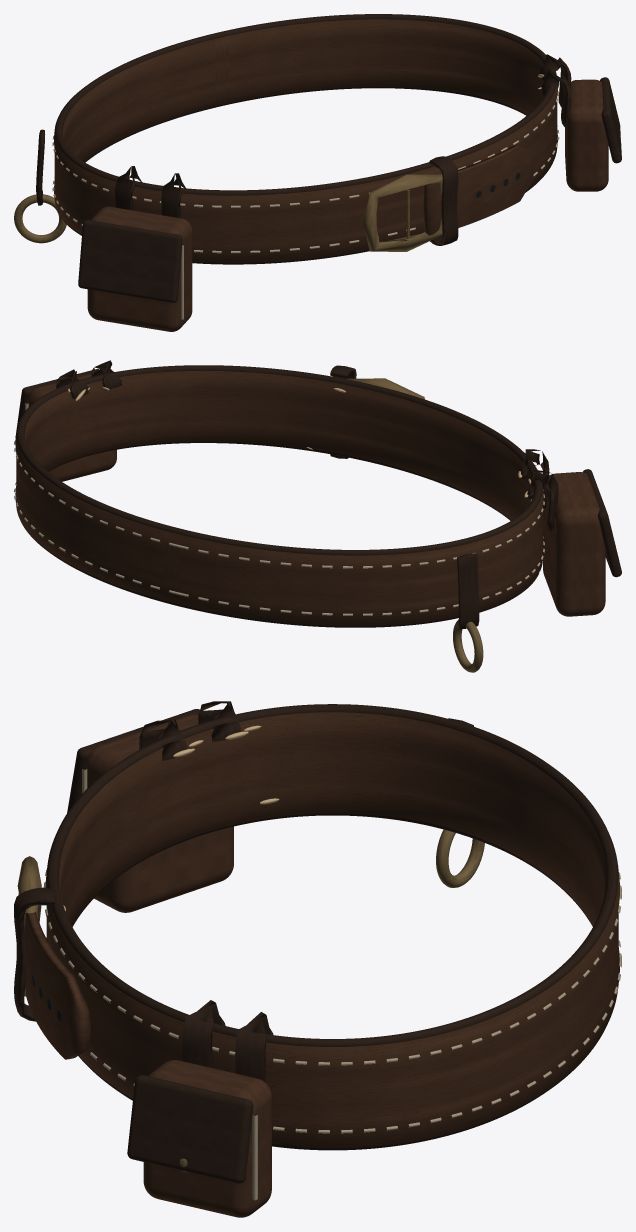
3 renders of one model, top to bottom at view 1: azimuth 30°, elevation 25°; view 2: azimuth 150°, elevation 25°; view 3: azimuth 270°, elevation 25°, orthographic. The views are drawn at different scales.
Parts seen in each view (by area): view 1: tanned leather, oiled strap leather, aged alloy edge, waxed linen thread; view 2: tanned leather, oiled strap leather, waxed linen thread, aged alloy edge; view 3: tanned leather, oiled strap leather, waxed linen thread, aged alloy edge.
Boxes of the visible parts, left/top/right/bottom form: tanned leather: left=53, top=19, right=608, bottom=331; oiled strap leather: left=36, top=14, right=621, bottom=302; aged alloy edge: left=14, top=136, right=620, bottom=251; waxed linen thread: left=52, top=86, right=559, bottom=319; tanned leather: left=15, top=371, right=605, bottom=625; oiled strap leather: left=16, top=360, right=621, bottom=629; waxed linen thread: left=14, top=403, right=544, bottom=615; aged alloy edge: left=347, top=378, right=483, bottom=672; tanned leather: left=25, top=712, right=619, bottom=1217; oiled strap leather: left=14, top=701, right=618, bottom=1183; waxed linen thread: left=43, top=769, right=621, bottom=1200; aged alloy edge: left=17, top=829, right=484, bottom=1172.
Size of the model in its own units: 0.4568 by 0.1048 by 0.2869.
Materials: 6 (4 with a texture image).
